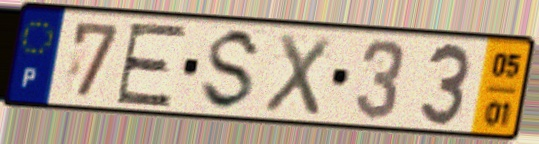3: (416, 40, 474, 129), (352, 36, 409, 124)
7: (71, 20, 120, 100)
E: (111, 21, 191, 109)
S: (196, 25, 266, 114)
X: (260, 30, 334, 119)
